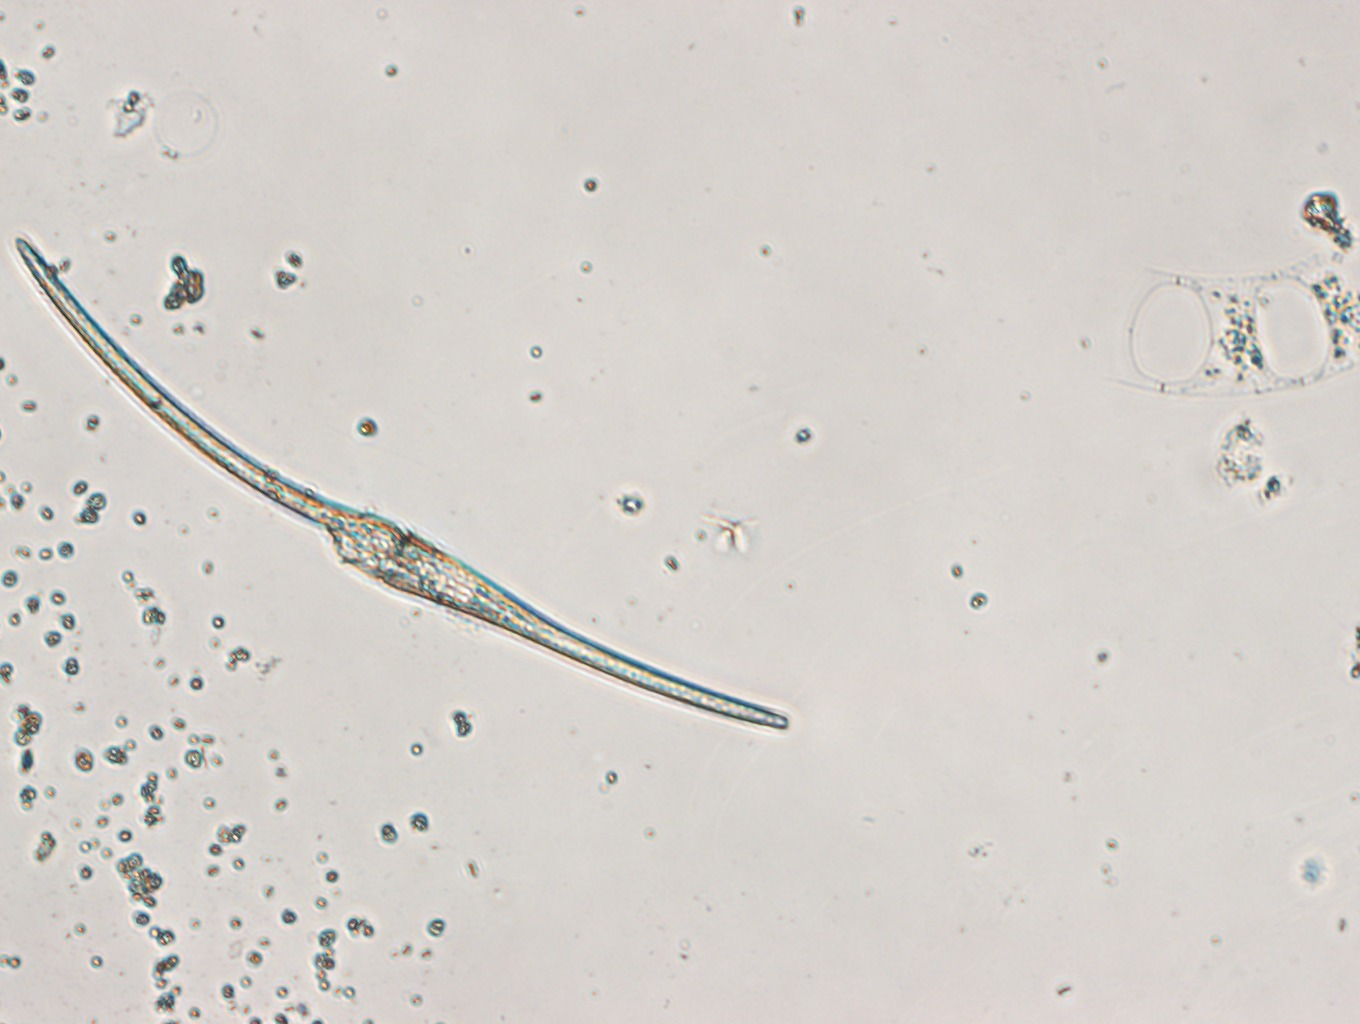ceratium fusus: (12, 233, 793, 733)
eucampia: (1103, 246, 1360, 398)
